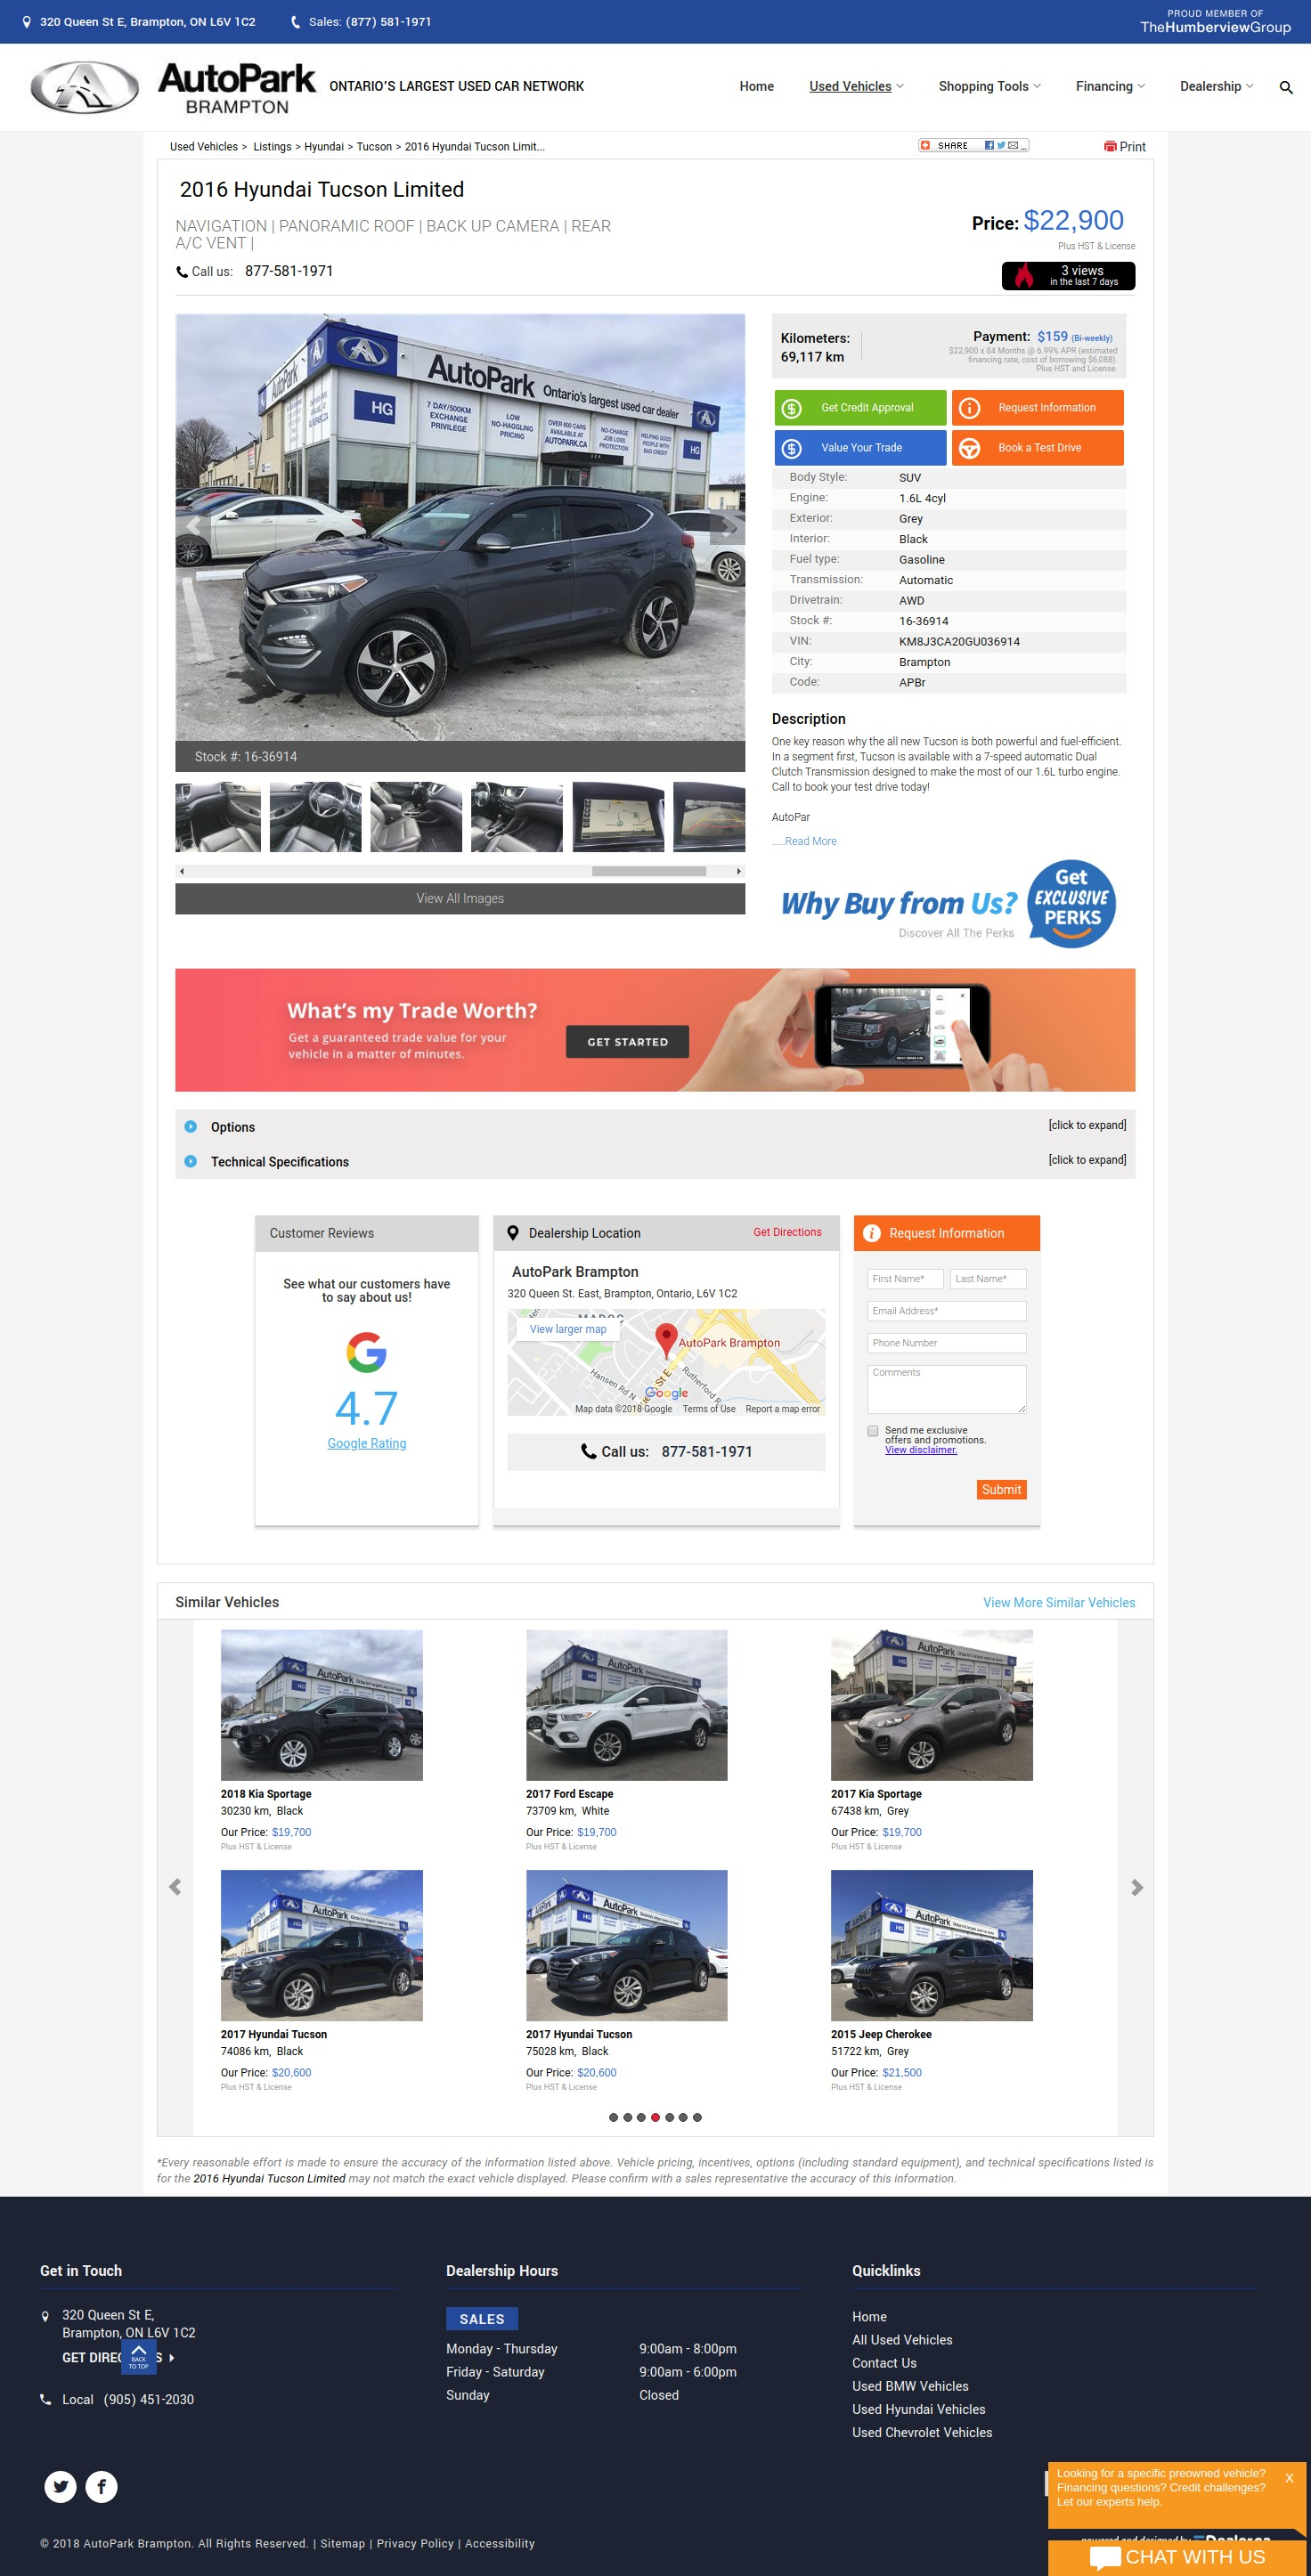car: (709, 510, 747, 547)
